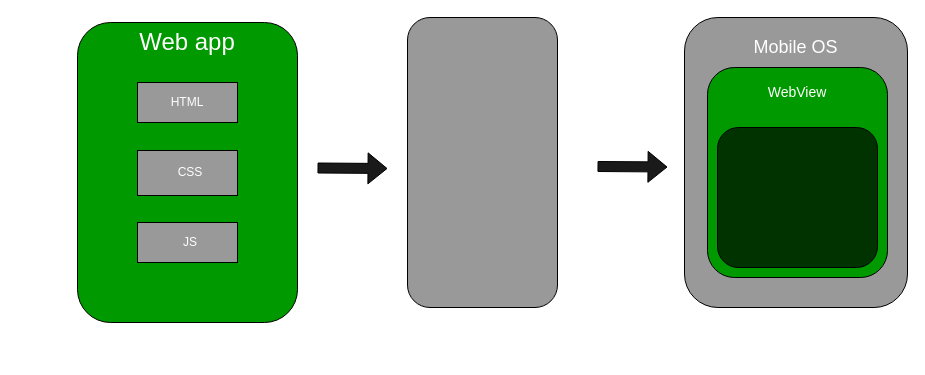
Some shapes in this 925 by 375 pixel diagram are drawn without their labels. The shapes that lost their labels are listed below. From the top down, each one's centre as x and y in pixels, then its label:
At (482,162): "Hybrid app framework".
At (797,197): "Hybrid app".
